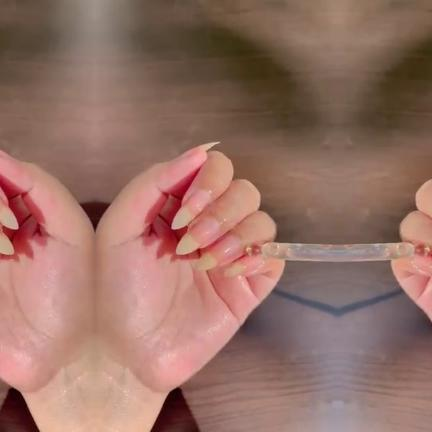Nail: (193, 234, 241, 270), (174, 218, 217, 255), (170, 190, 208, 230), (223, 254, 262, 276), (180, 142, 218, 158), (0, 199, 18, 230), (412, 254, 432, 274), (0, 230, 14, 255), (0, 150, 8, 158)
